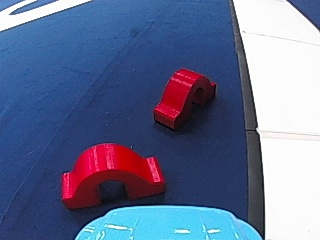bridge: (54, 139, 168, 210), (151, 66, 217, 128)
